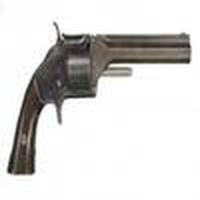gun: (7, 32, 185, 174)
